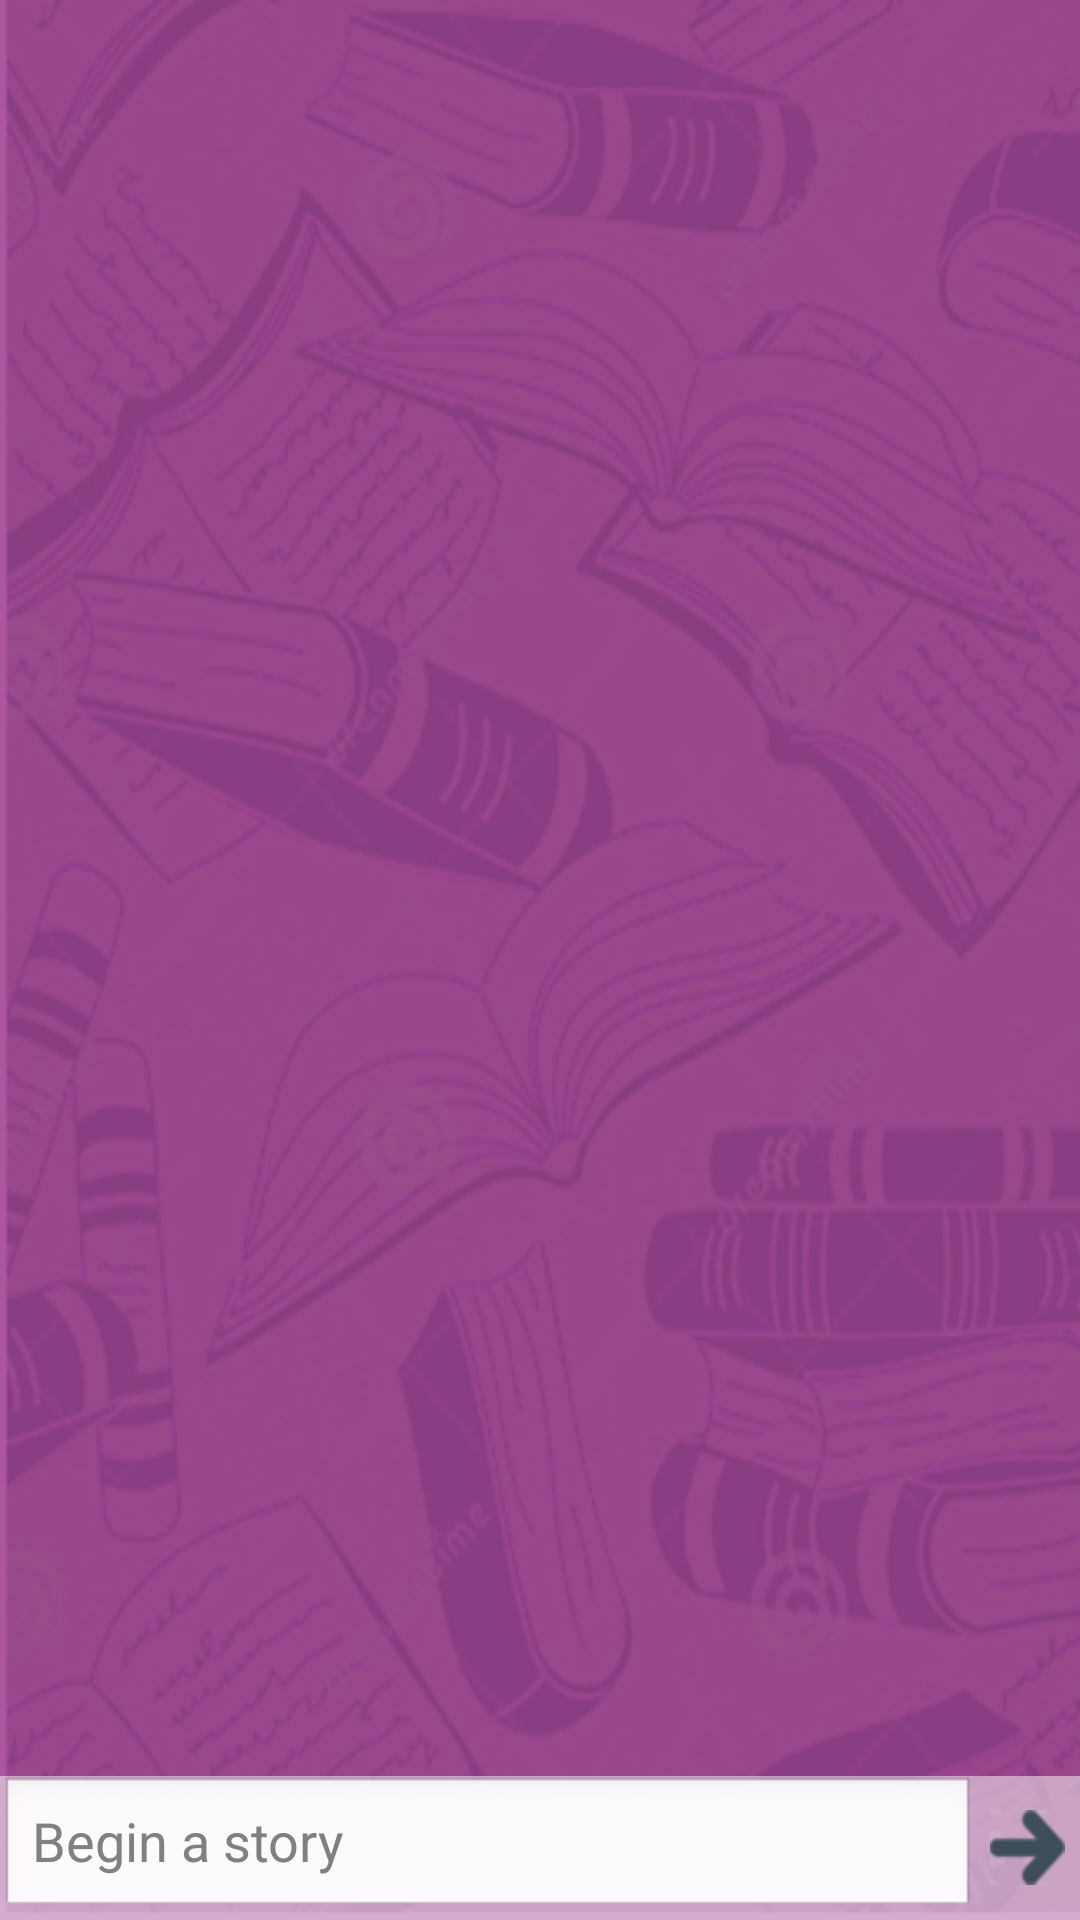

Screen size 1080px x 1920px. Icon name, then its box in pixels as [x1, y1, x2, y2]:
arrow right: [990, 1810, 1065, 1885]
